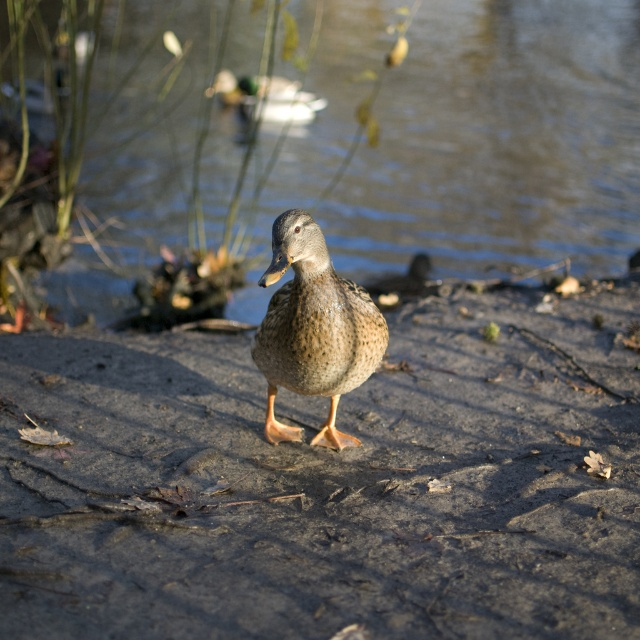Duck: (252, 204, 390, 454)
